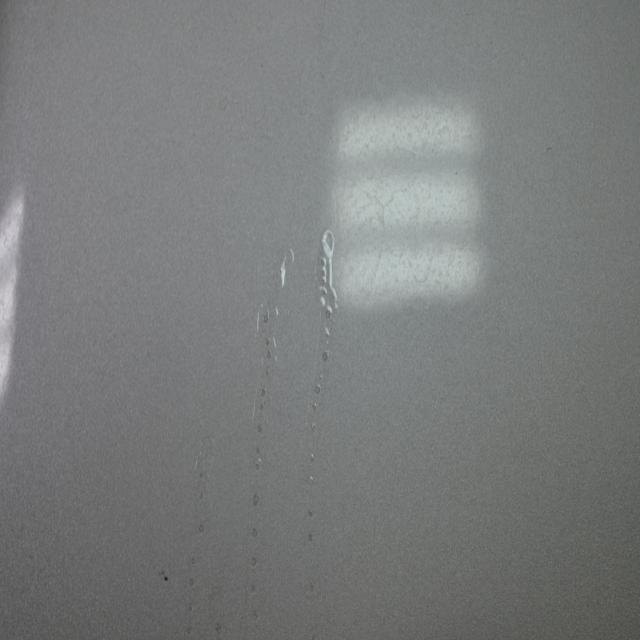dirt: (163, 573, 169, 582)
runs: (236, 231, 337, 640)
